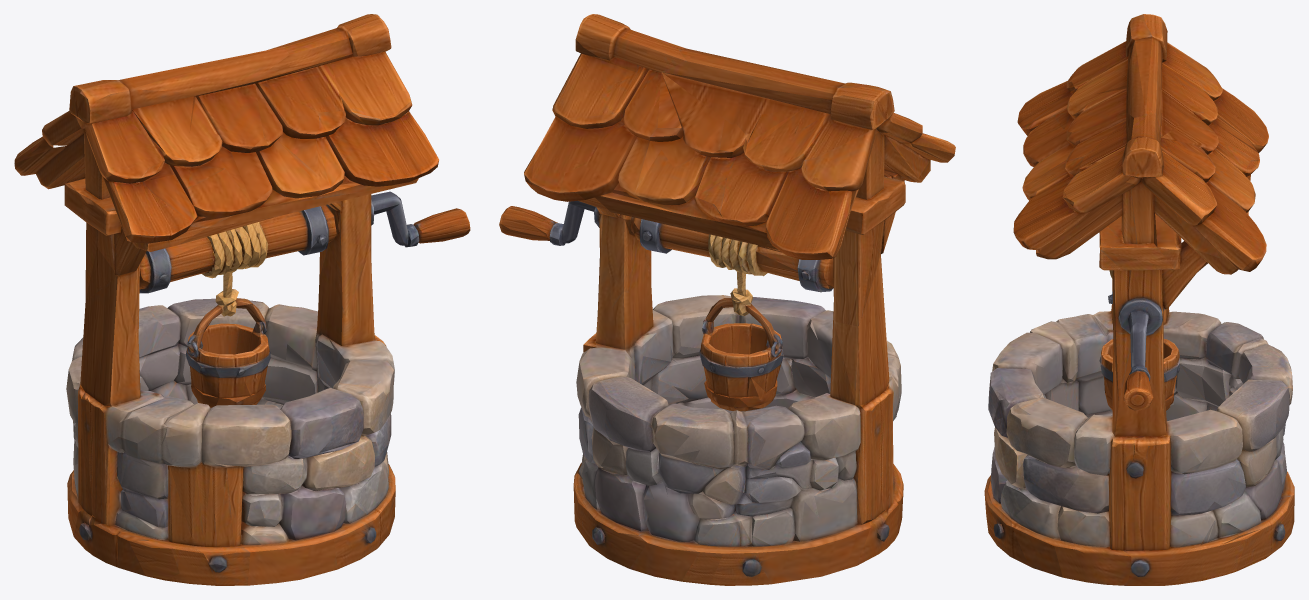
Rendered from well.glb.
3 views of the same model, side by side, from view 1: azimuth 30°, elevation 25°; view 2: azimuth 150°, elevation 25°; view 3: azimuth 270°, elevation 25° (orthographic). The views are drawn at different scales.
Visible parts, largest first — view 1: output_unwrapped; view 2: output_unwrapped; view 3: output_unwrapped.
Part boxes in pixels (left/top/right/bottom): output_unwrapped: left=14, top=14, right=470, bottom=585; output_unwrapped: left=499, top=14, right=955, bottom=585; output_unwrapped: left=984, top=14, right=1294, bottom=585.
Size of the model in its own units: 1.68 by 1.9 by 1.21.
1 material, 1 textured.
